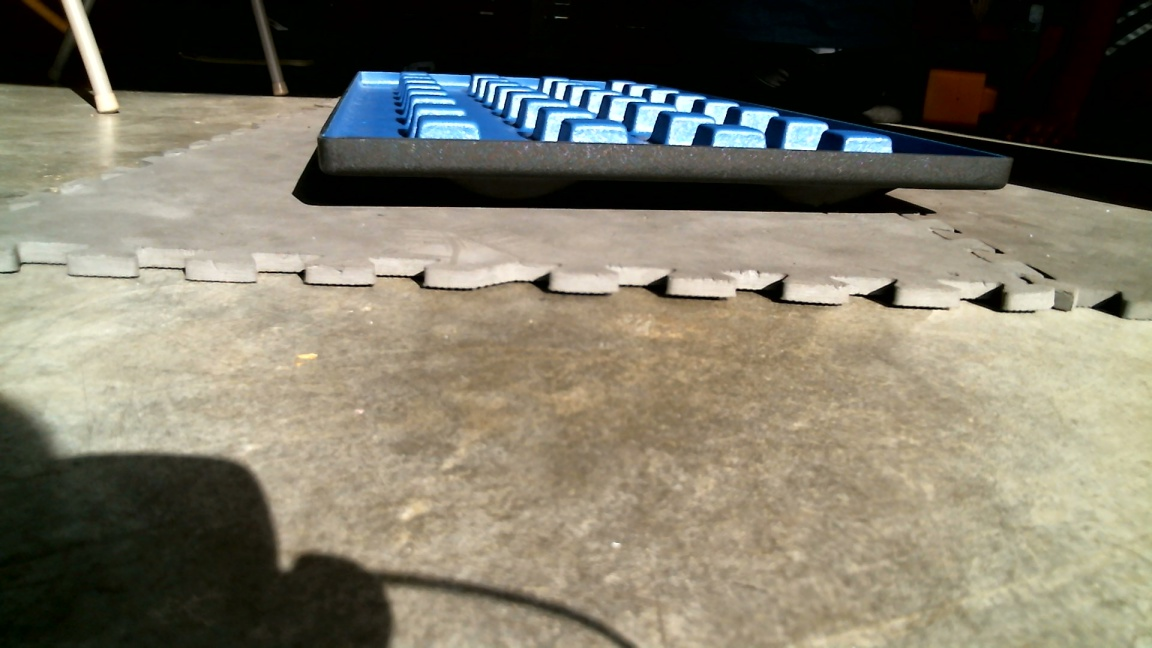blue_foundation: (294, 71, 1013, 215)
